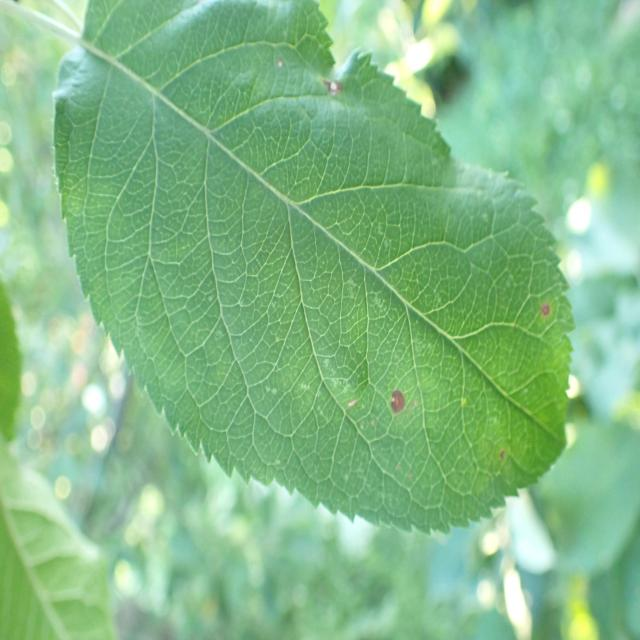frog-eye-leaf-spot: (52, 1, 577, 541)
